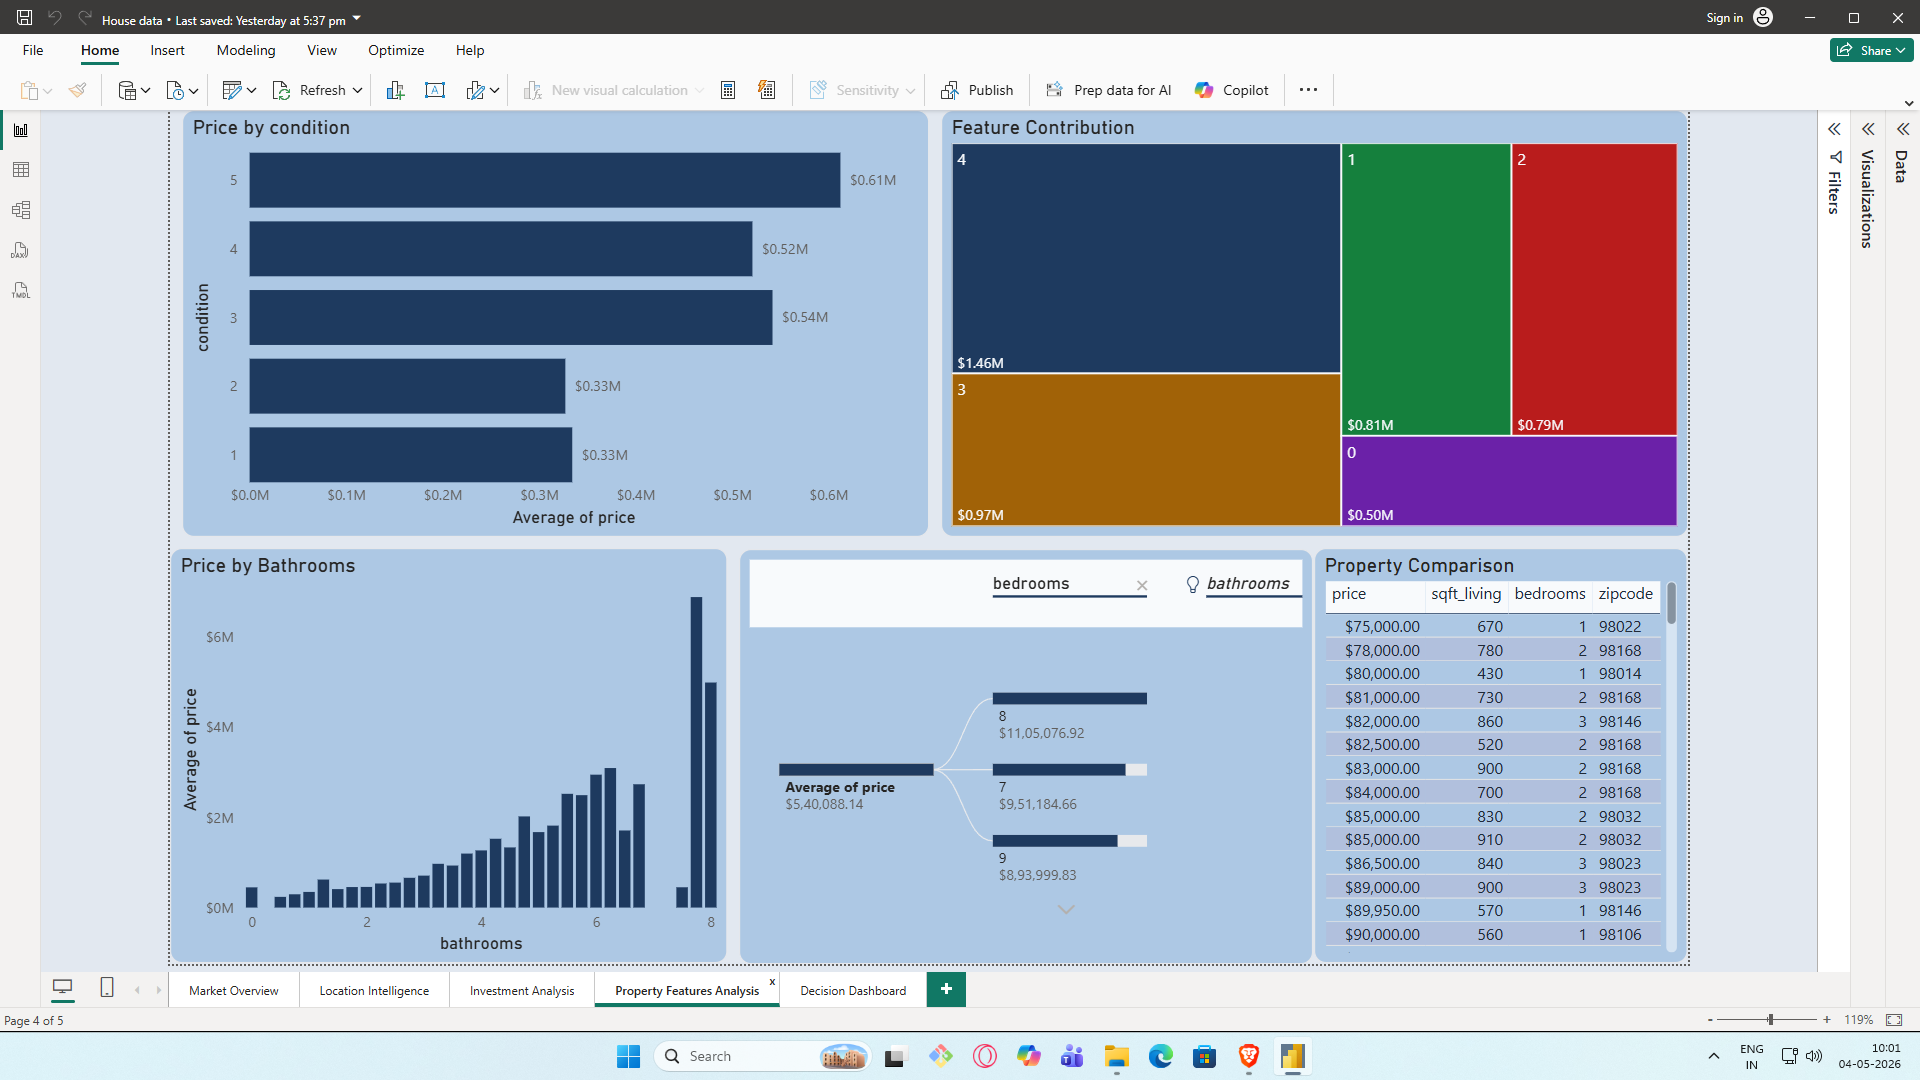

The dashboard page shown, as its layout file describes it:
{"tool":"powerbi","page":{"name":"Property Features Analysis","canvas":[1280,720],"ordinal":3},"visuals":[{"type":"clusteredBarChart","title":"Price by condition","fields":{"Y":["Avg(Data.price)"],"Category":["Data.condition"]},"box":[9.7,0,630.3,359.9],"z":0},{"type":"clusteredColumnChart","title":"Price by Bathrooms","fields":{"Y":["Avg(Data.price)"],"Category":["Data.bathrooms"]},"box":[0,369.6,469.8,350.2],"z":1000},{"type":"treemap","title":"Feature Contribution","fields":{"Group":["Data.view","Data.waterfront","Data.condition"],"Values":["Avg(Data.price)"]},"box":[650,0,630,360],"z":2000},{"type":"decompositionTreeVisual","fields":{"Analyze":["Avg(Data.price)"],"ExplainBy":["Data.bedrooms","Data.bathrooms","Data.condition","Data.zipcode"]},"box":[480,369.9,484.5,350.1],"z":3000},{"type":"tableEx","title":"Property Comparison","fields":{"Values":["Data.price","Data.sqft_living","Data.bedrooms","Data.zipcode"]},"box":[964.9,369.6,315.1,350.2],"z":4000}]}

Visuals, with their boxes on the page's 1280x720 design canvas (x1, y1, x2, y2). These are canvas units, not pixel positions in the 1920x1080 screenshot, which may show the page scaled, cropped or inside an application window:
"Price by condition" clusteredBarChart: [10,0,640,360]
"Price by Bathrooms" clusteredColumnChart: [0,370,470,720]
"Feature Contribution" treemap: [650,0,1280,360]
decompositionTreeVisual - Avg(Data.price) x Data.bedrooms: [480,370,964,720]
"Property Comparison" tableEx: [965,370,1280,720]
